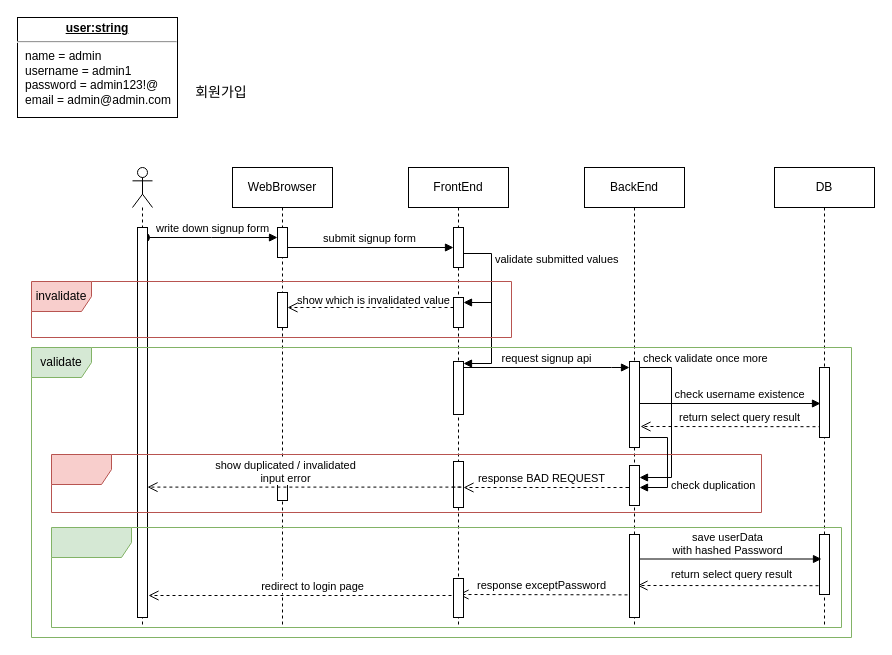
The diagram is 892 pixels wide and 655 high, and some of its shapes have lost their labels. Each missing label, with the centre of its shape:
"duplicated" goes at (x=406, y=483).
"not duplicated" goes at (x=446, y=577).
